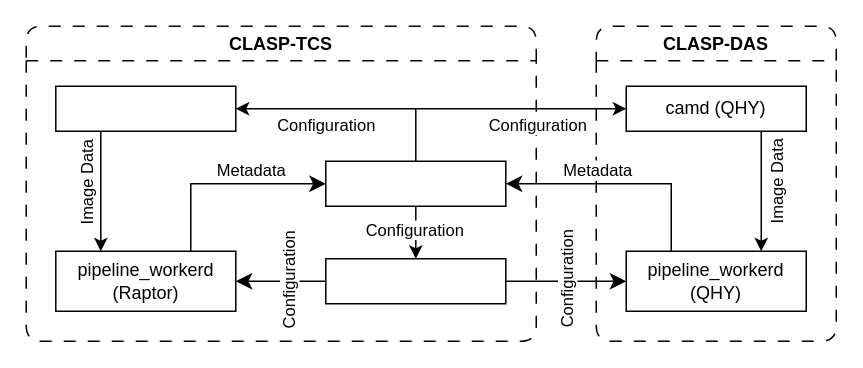
Some shapes in this 863 by 368 pixel diagram are drawn without their labels. Each missing label, with the centre of its shape:
camd (Raptor): the point at 145,108
opsd: the point at 415,183
pipelined: the point at 415,280
